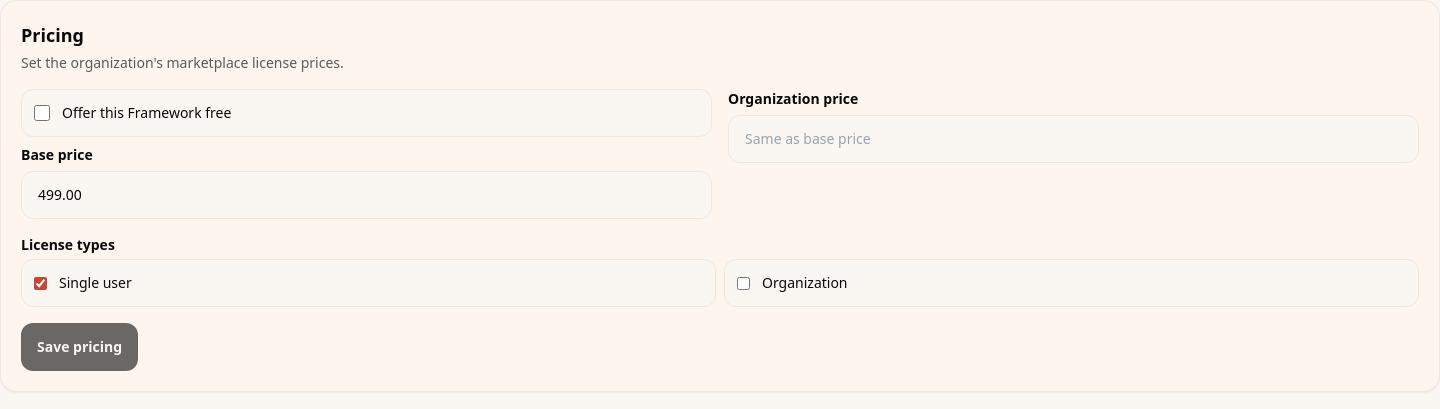
Test: FrameworkPricingForm free listings › restores the previous amount when the free toggle is unchecked
Step 1. Click the checkbox labelled "Offer this Framework free" → click(42, 113), box [34,105,50,121]
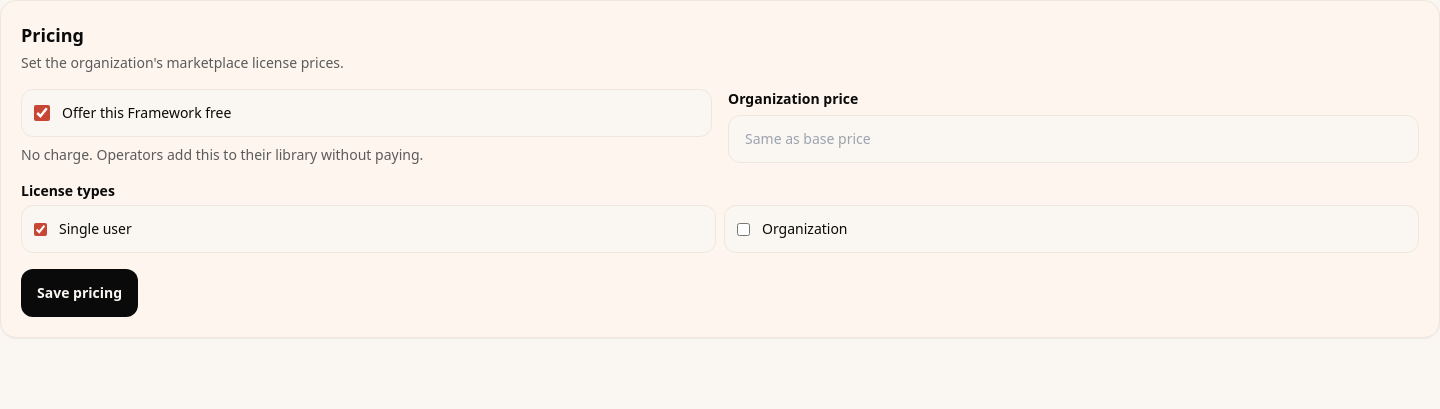
Step 2. Click the checkbox labelled "Offer this Framework free" → click(42, 113), box [34,105,50,121]
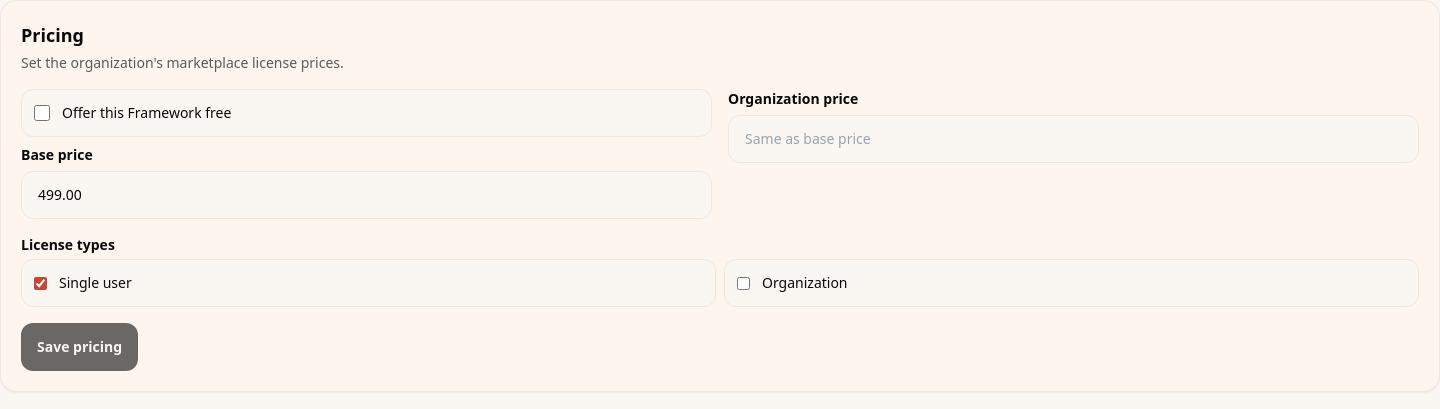
Now the field labelled "Base price" is enabled, box [21,171,712,219]
Now the field labelled "Base price" holds "499.00", box [21,171,712,219]
